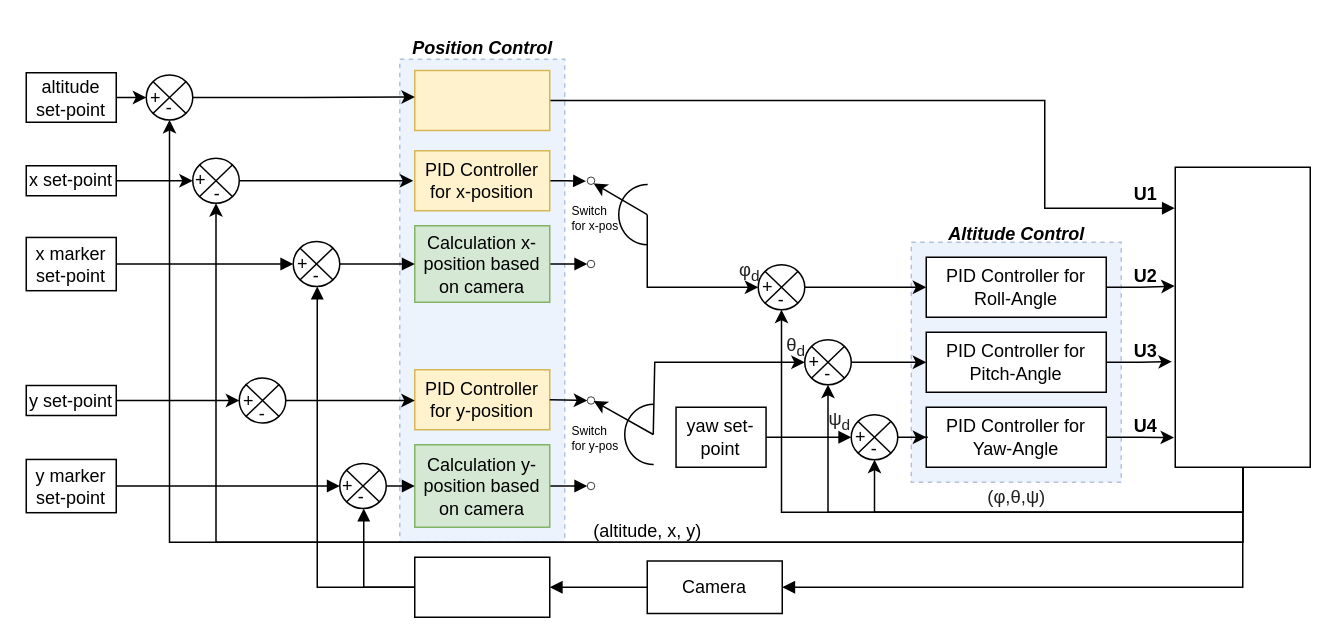
Image size: 1337x644. Some labels were removed from this diagram. Here are the shapes that lost their labels. From the top down, the centre of each, then its label:
the point at 481,99: PID Controller for altitude
the point at 1242,316: Quadcopter System
the point at 481,586: Marker Detection
